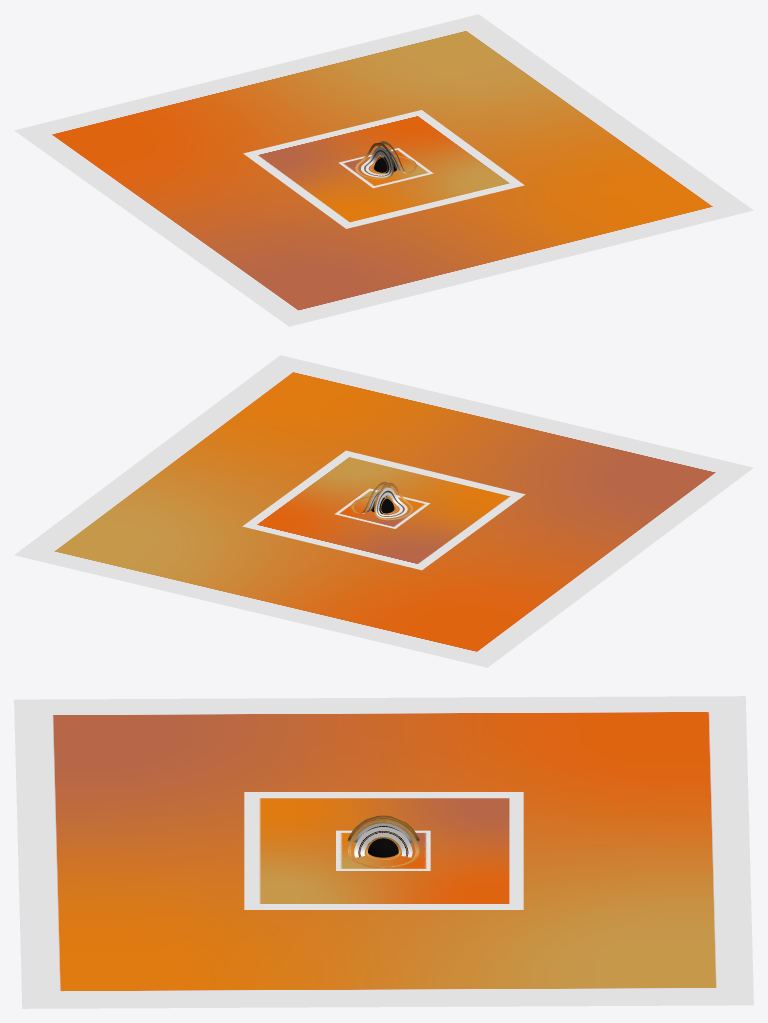
Rendered from Black hole p1_Complete2.fbx.
3 views of the same model, one above another, from view 1: azimuth 30°, elevation 25°; view 2: azimuth 150°, elevation 25°; view 3: azimuth 270°, elevation 25° (orthographic). The views are drawn at different scales.
Parts seen in each view (by area): view 1: Black hole p1; view 2: Black hole p1; view 3: Black hole p1.
Boxes of the visible parts, x1,y1,x2,y2 form: Black hole p1: (14,14,753,326); Black hole p1: (14,355,753,667); Black hole p1: (14,696,753,1008).
Bounding box in the file's own units: 123 × 14.66 × 123.
